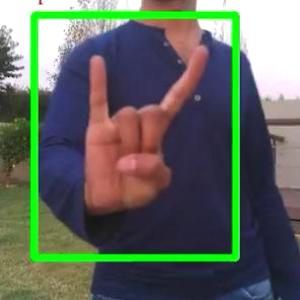takeoff-hand: (74, 32, 213, 223)
